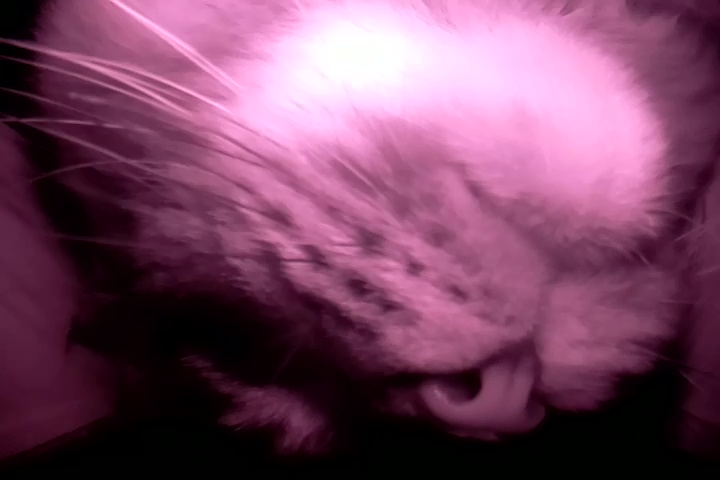Snout: (327, 61, 683, 431)
